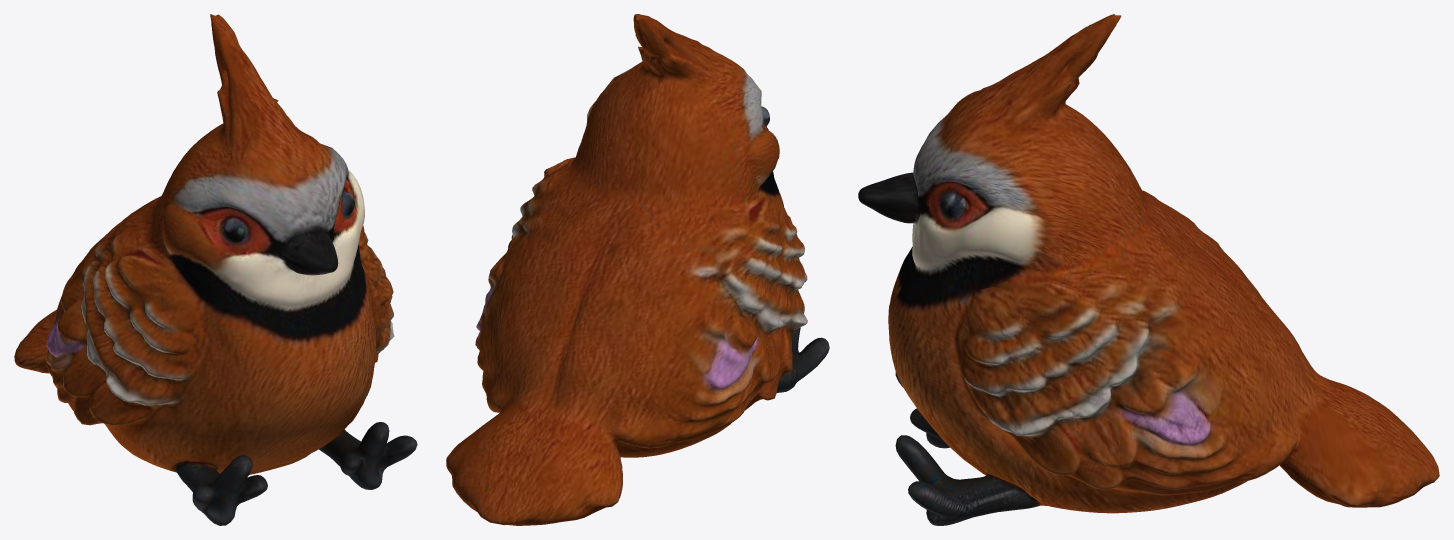
The model's file is sam.glb.
3 views of the same model, side by side, from view 1: azimuth 30°, elevation 25°; view 2: azimuth 150°, elevation 25°; view 3: azimuth 270°, elevation 25° (orthographic). The views are drawn at different scales.
Parts seen in each view (by area): view 1: Sam; view 2: Sam; view 3: Sam.
Part boxes in pixels (<box>): Sam: <box>14,14,417,525</box>; Sam: <box>446,14,829,525</box>; Sam: <box>858,14,1439,525</box>.
Bounding box in the file's own units: 0.6248 × 0.8926 × 1.
Materials: 1 (1 with a texture image).
